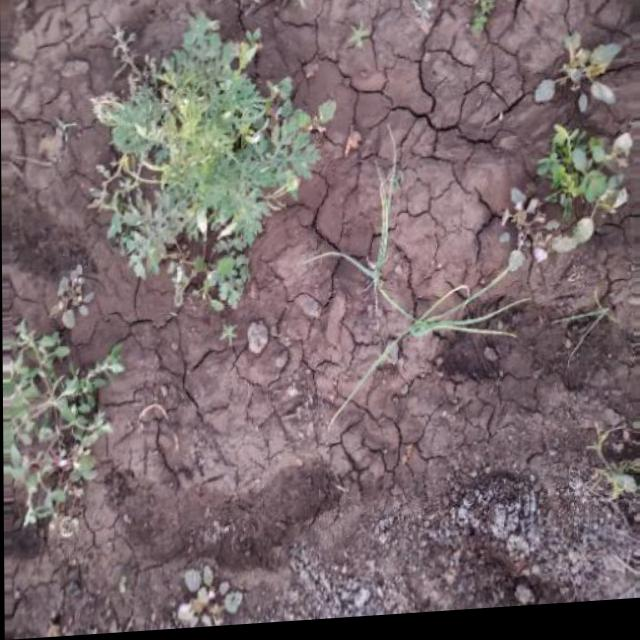weed: (65, 11, 346, 327), (485, 38, 633, 312)
